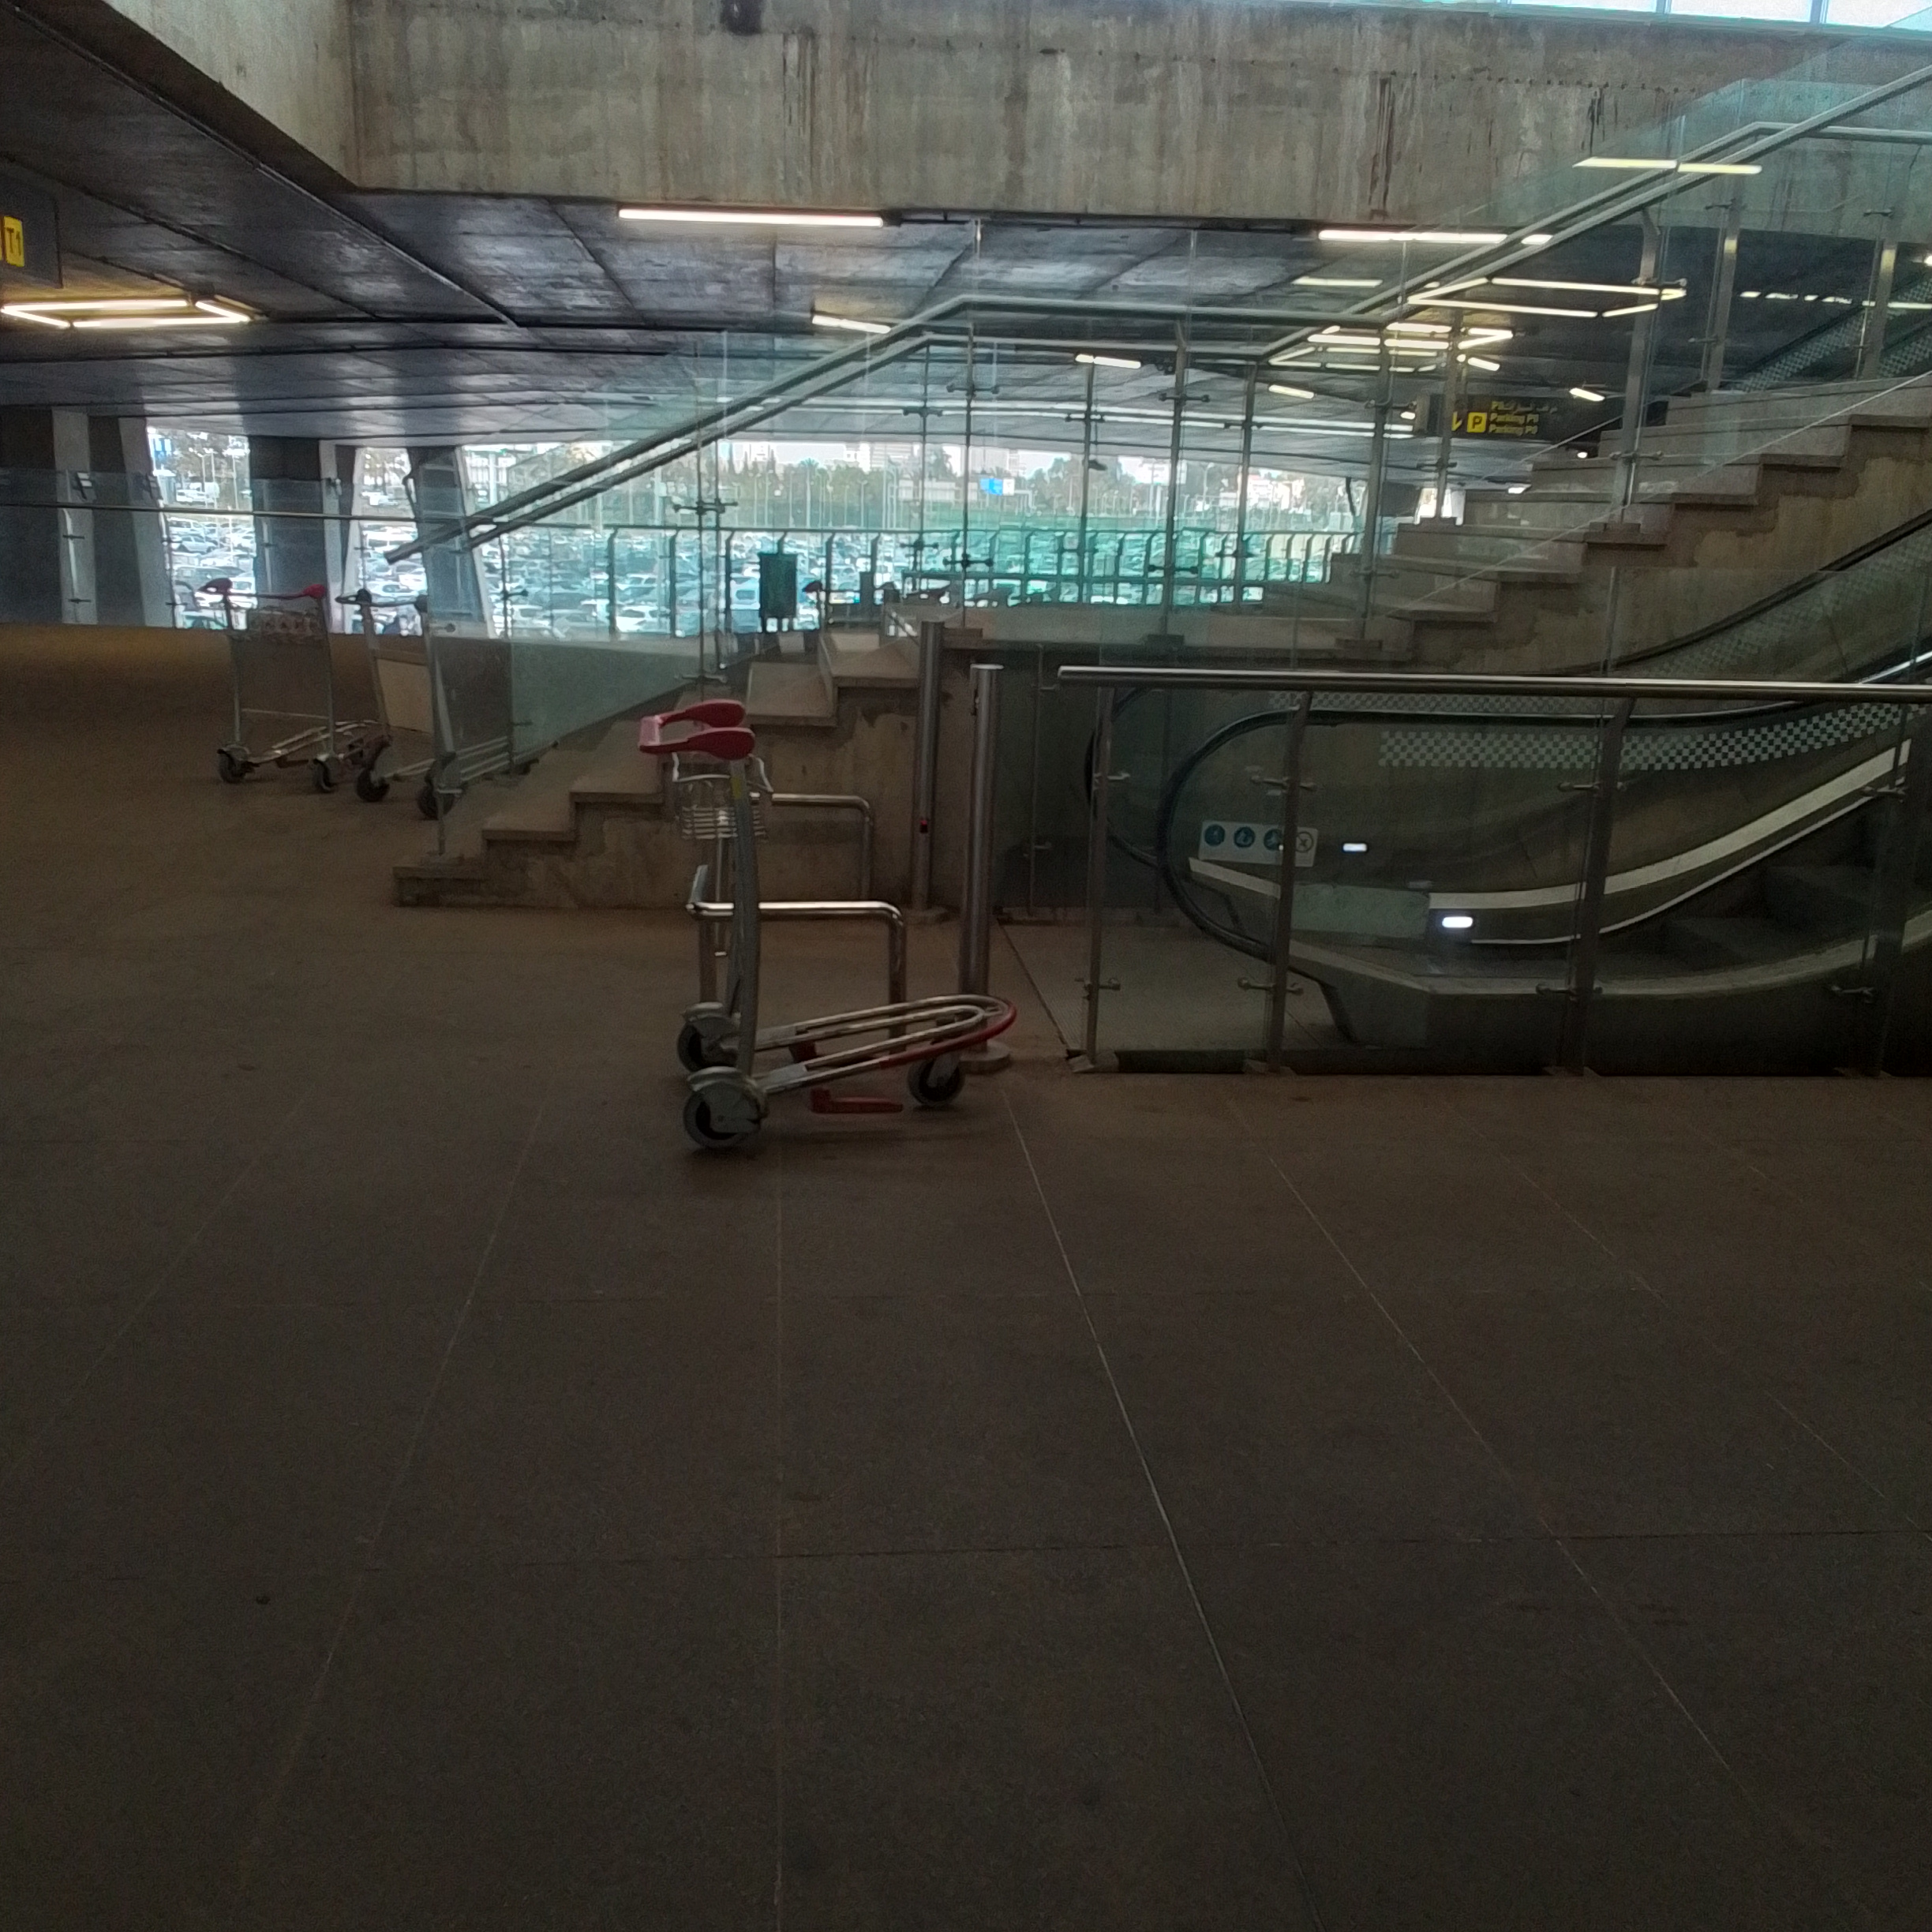airport-trolley: (626, 695, 1016, 1132)
